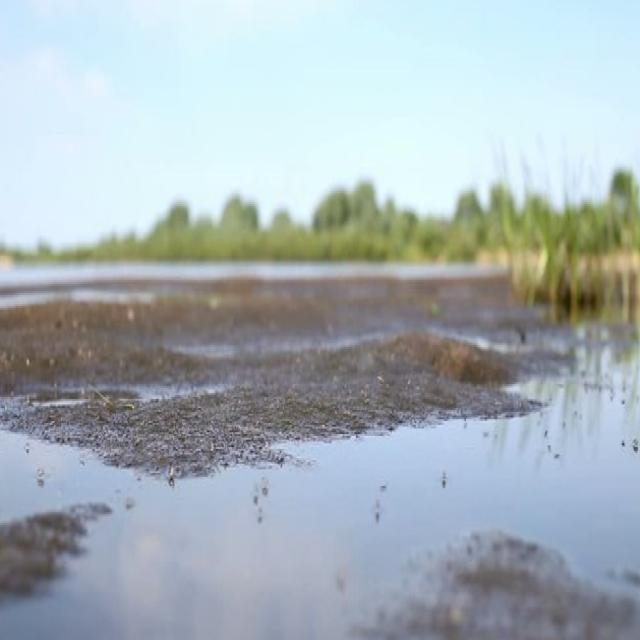Breeding Place: (4, 267, 640, 640)
